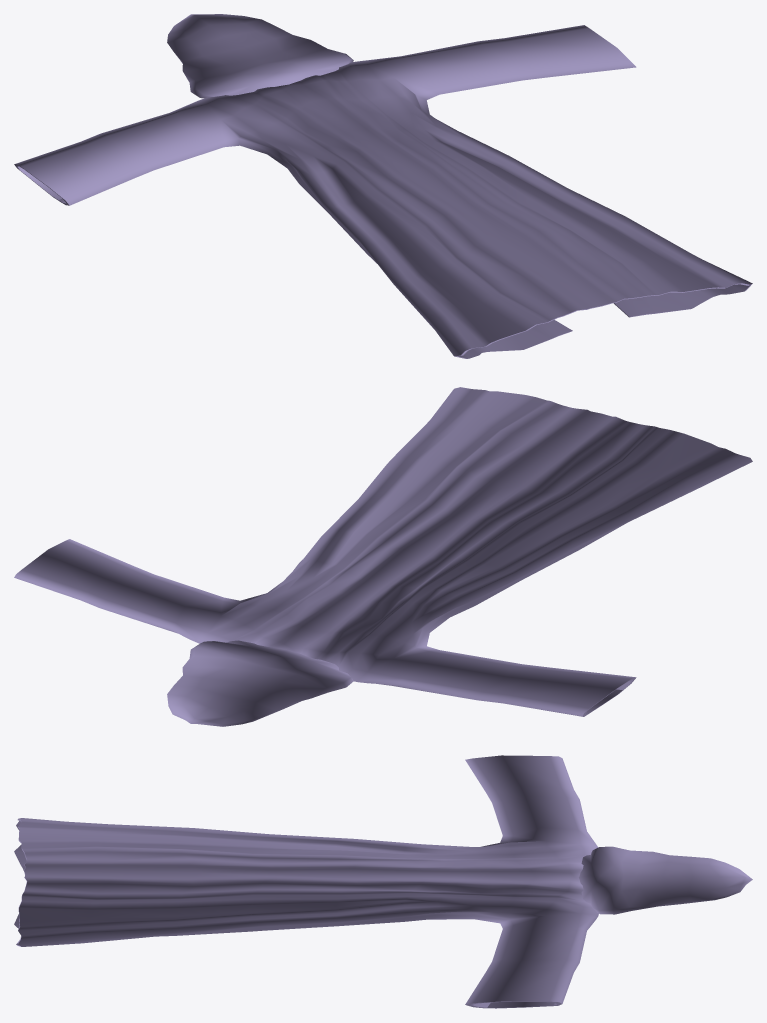
Rendered from W_Kenobi_Cape.FBX.
3 renders of one model, top to bottom at view 1: azimuth 30°, elevation 25°; view 2: azimuth 150°, elevation 25°; view 3: azimuth 270°, elevation 25°, orthographic. The views are drawn at different scales.
Parts seen in each view (by area): view 1: 54Plane002; view 2: 54Plane002; view 3: 54Plane002.
Boxes of the visible parts, bbox=[...] form: 54Plane002: bbox=[14, 14, 752, 358]; 54Plane002: bbox=[14, 387, 752, 726]; 54Plane002: bbox=[14, 755, 752, 1008].
Bounding box in the file's own units: 53.99 × 1.92 × 68.55.
